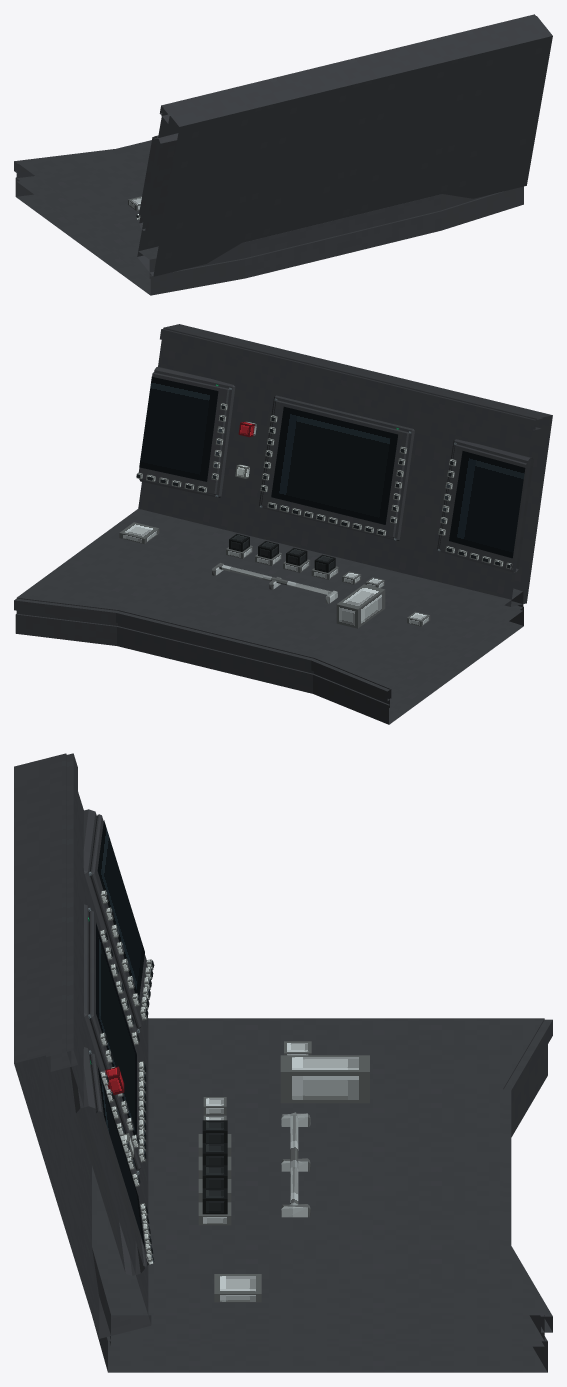
The model's file is cab_static_center.obj.
3 renders of one model, top to bottom at view 1: azimuth 30°, elevation 25°; view 2: azimuth 150°, elevation 25°; view 3: azimuth 270°, elevation 25°, orthographic. The views are drawn at different scales.
Size of the model in its own units: 1 by 0.5063 by 0.7671.
